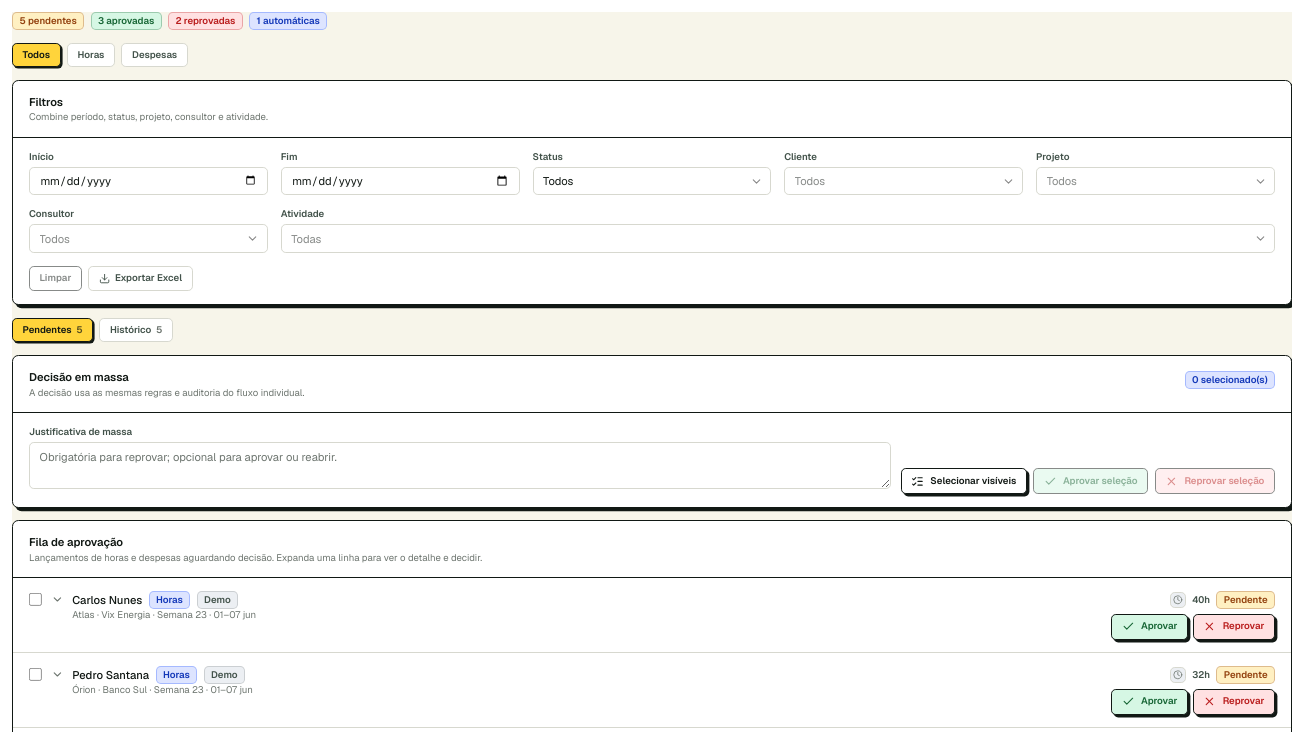
it: ApprovalQueue › filters approvals by project
Select "Atlas" in the dropdown labelled "Projeto" at (1053, 156), box x1=1036 y1=150 x2=1069 y2=163
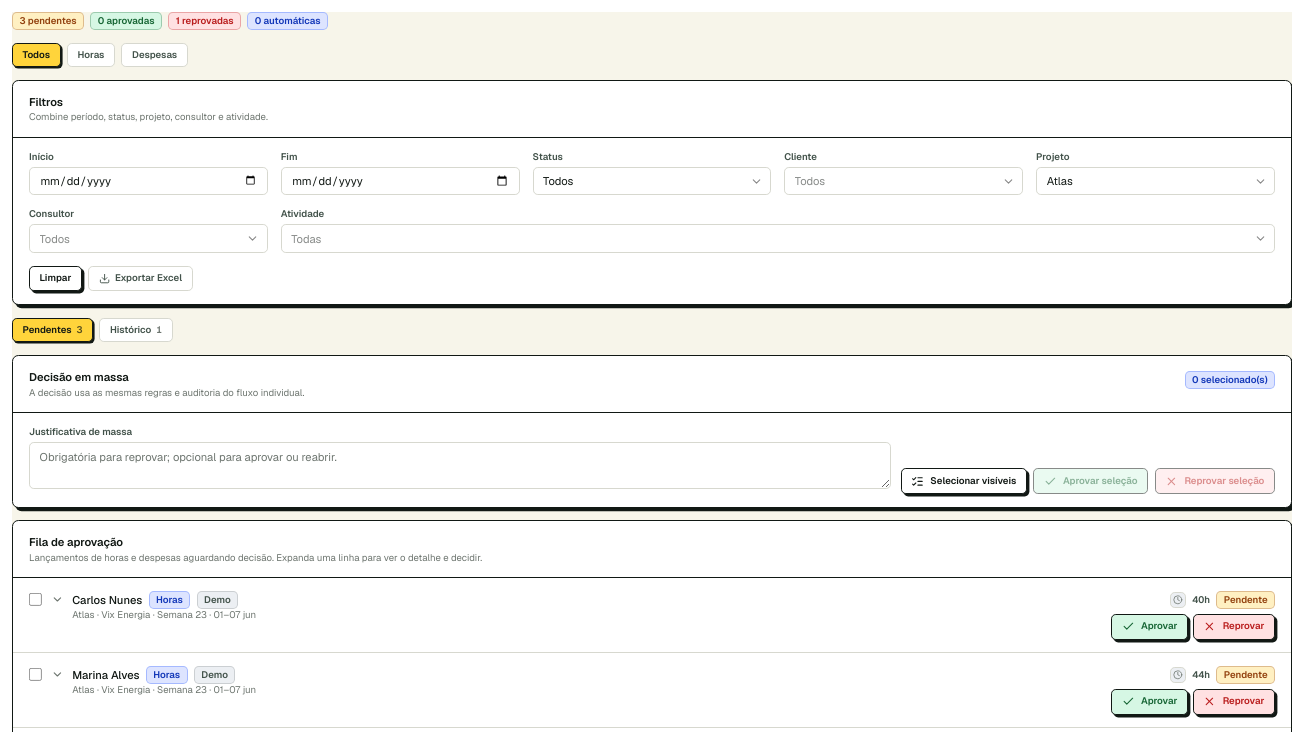
Expected: the text "3 pendentes" is shown, x1=12 y1=12 x2=84 y2=30
